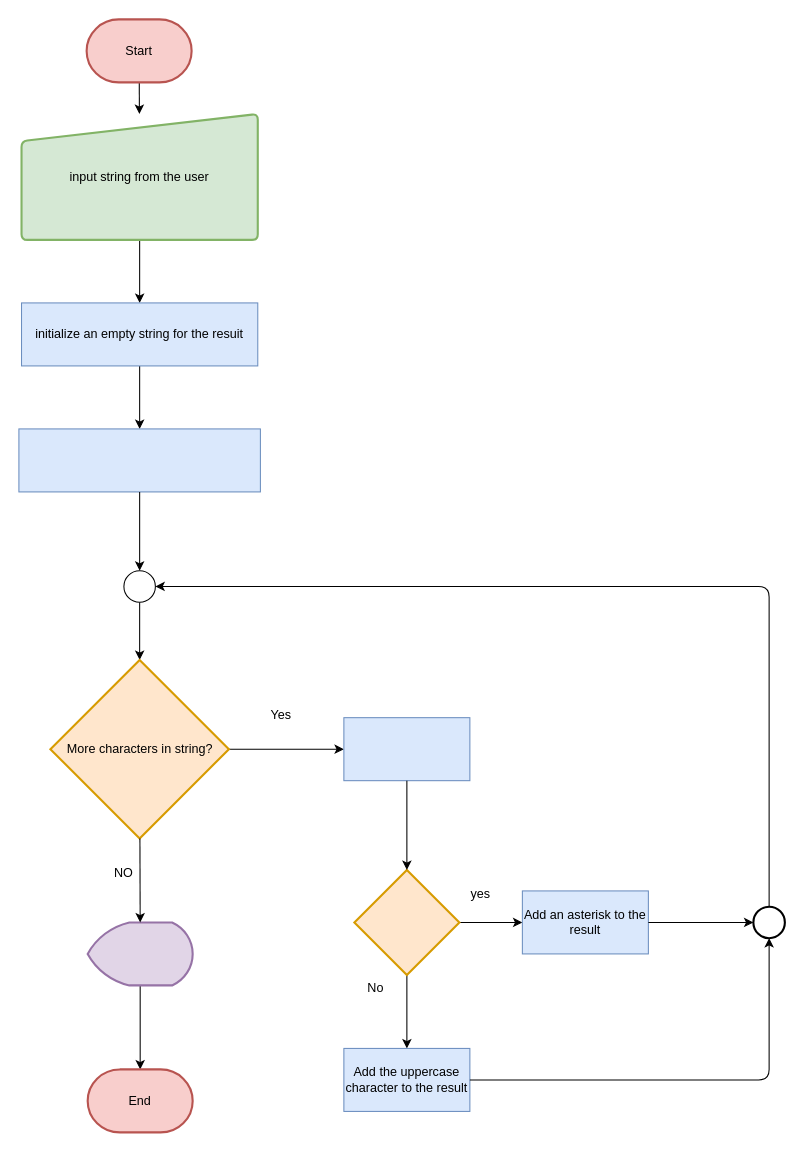
Image size: 803x1151. Some labels were removed from this diagram. The shapes that lost their labels are listed below. From the top down, each one's box as (x1, y1, x2, y2) in pixels, then its label:
(18, 428, 260, 492): Define vowels as "aeiouAEIOU"
(343, 717, 470, 781): Convert charact to uppercase
(353, 868, 460, 975): is character a vowel?
(86, 921, 193, 986): print the modified string
